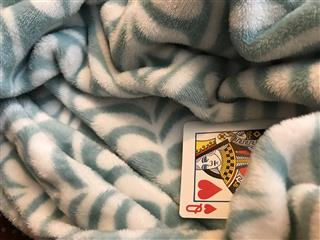QueenOfHearts: (178, 120, 278, 218)
